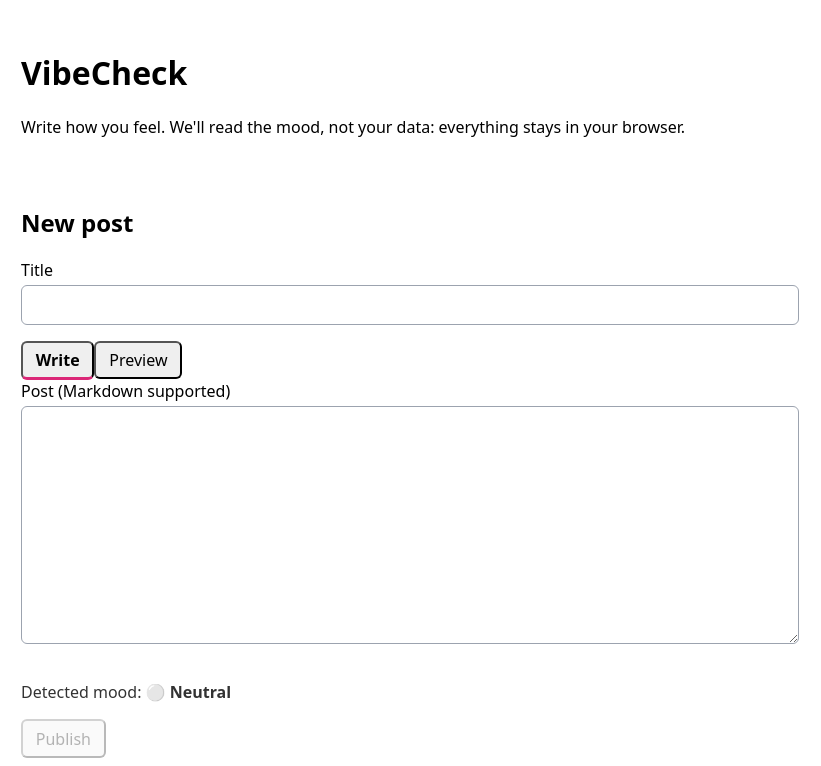
Scenario: App › writes, previews, detects mood, publishes, filters and persists
Later steps or results of the test are not shown.
In the field labelled "Title": (410, 305) x1=21 y1=285 x2=799 y2=325, type "Good news"
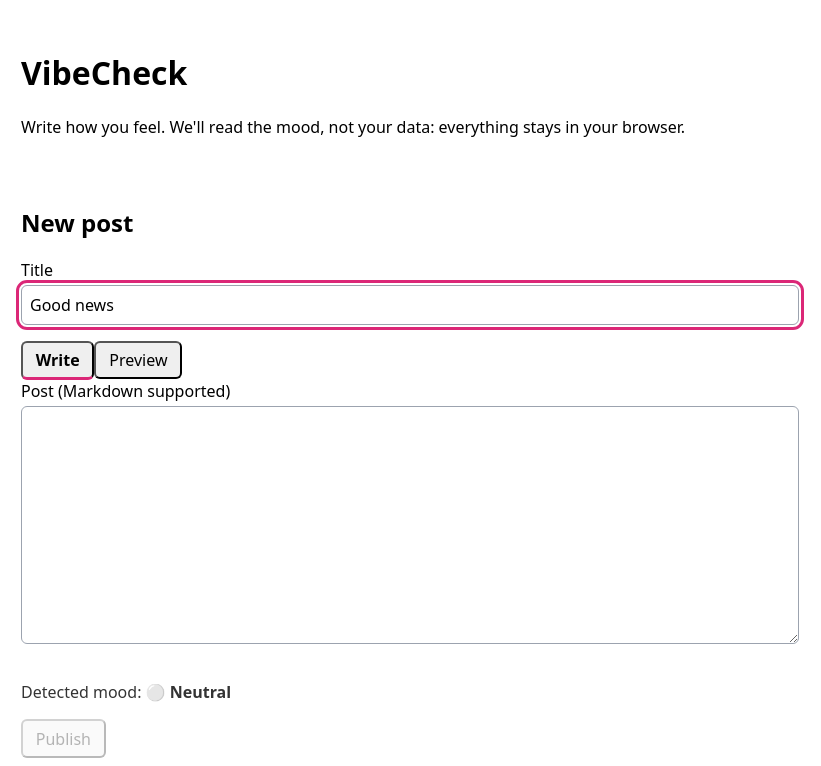
In the text box labelled "Post (Markdown supported)": (410, 526) x1=21 y1=406 x2=799 y2=644, type "I am so **happy** and grateful!"
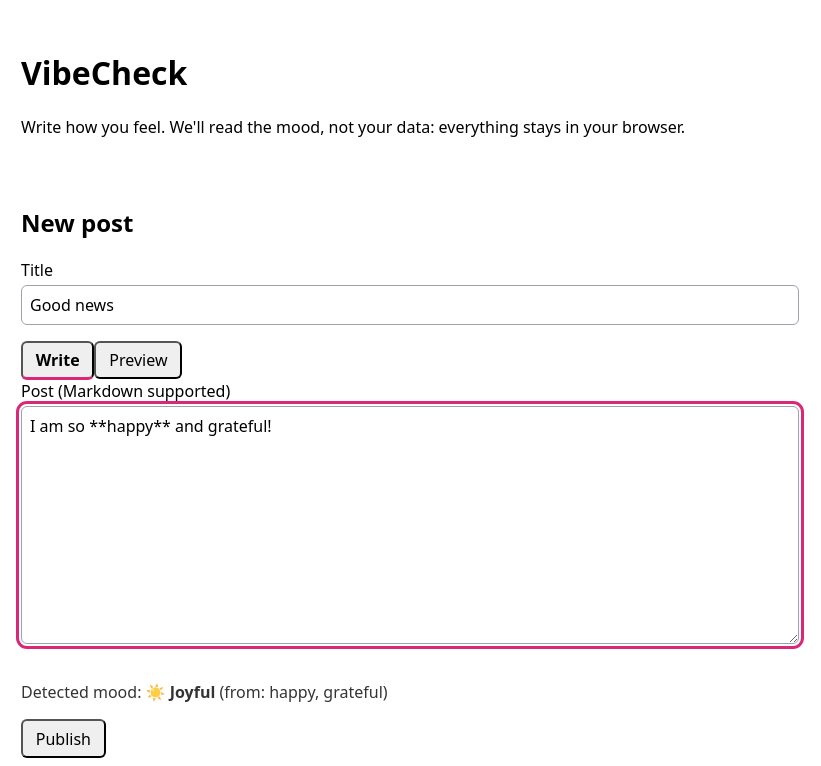
Expected: the text "Detected mood: ☀️ Joyful (from: happy, grateful)" is shown, x1=21 y1=682 x2=388 y2=704
Click the tab "Preview": (138, 360) x1=94 y1=341 x2=182 y2=380
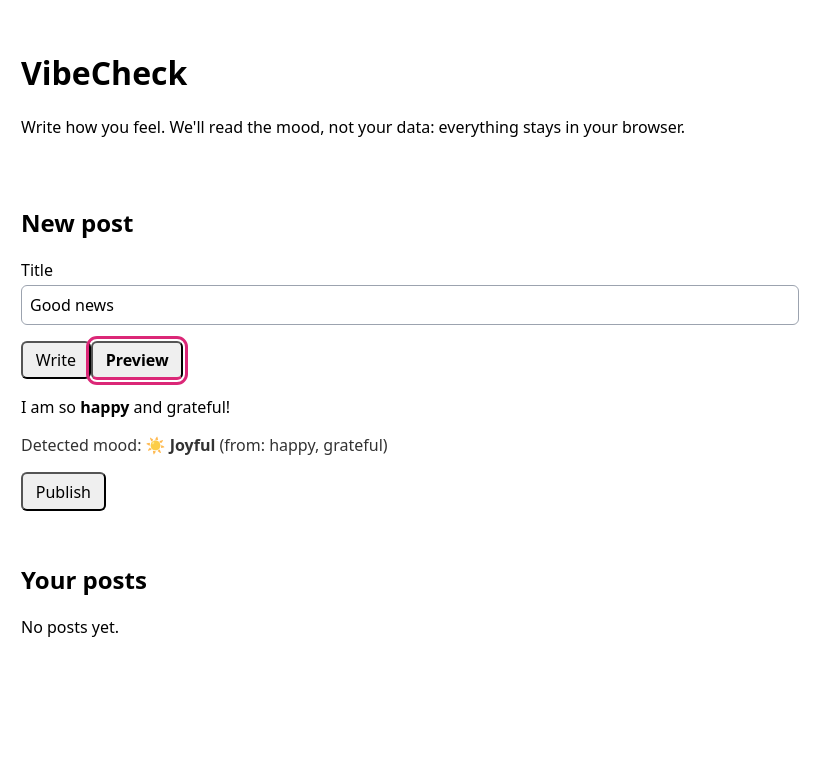
Click the button "Publish": (63, 492) x1=21 y1=472 x2=106 y2=511
(page scrolled)
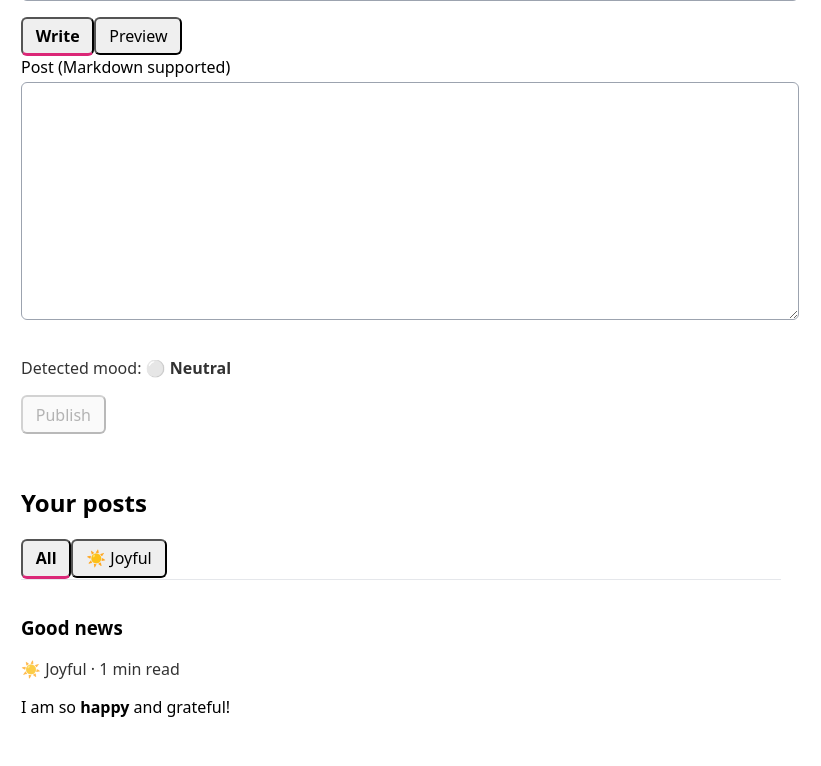
Expected: the element "Good news" shows "Joyful · 1 min read", x1=21 y1=579 x2=781 y2=718
